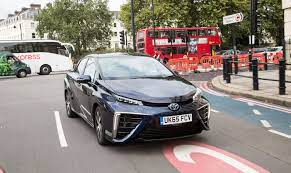Toyota: (63, 52, 212, 142)
